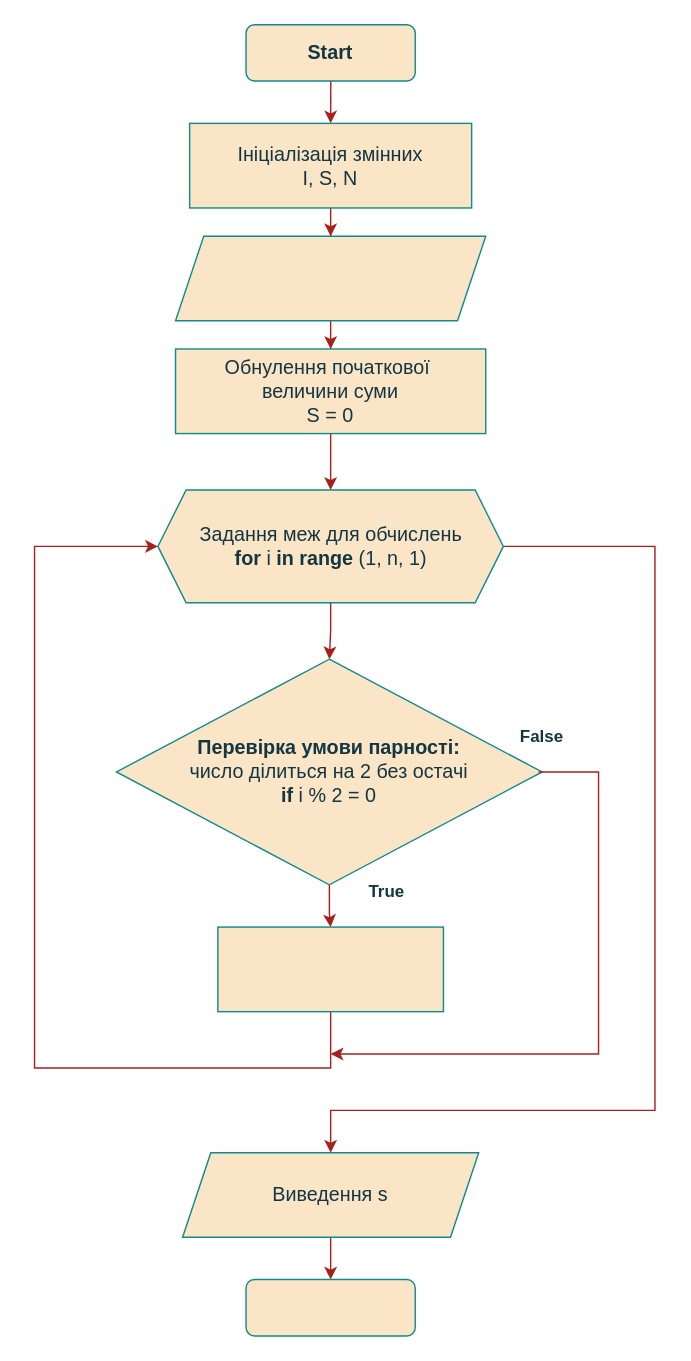
The diagram is 691 pixels wide and 1361 high, and some of its shapes have lost their labels. The centre of each missing label's shape, as x and y in pixels:
"End" belongs at (330,1307).
"S=S+I" belongs at (329,969).
"Введення змінної N" belongs at (330,278).
